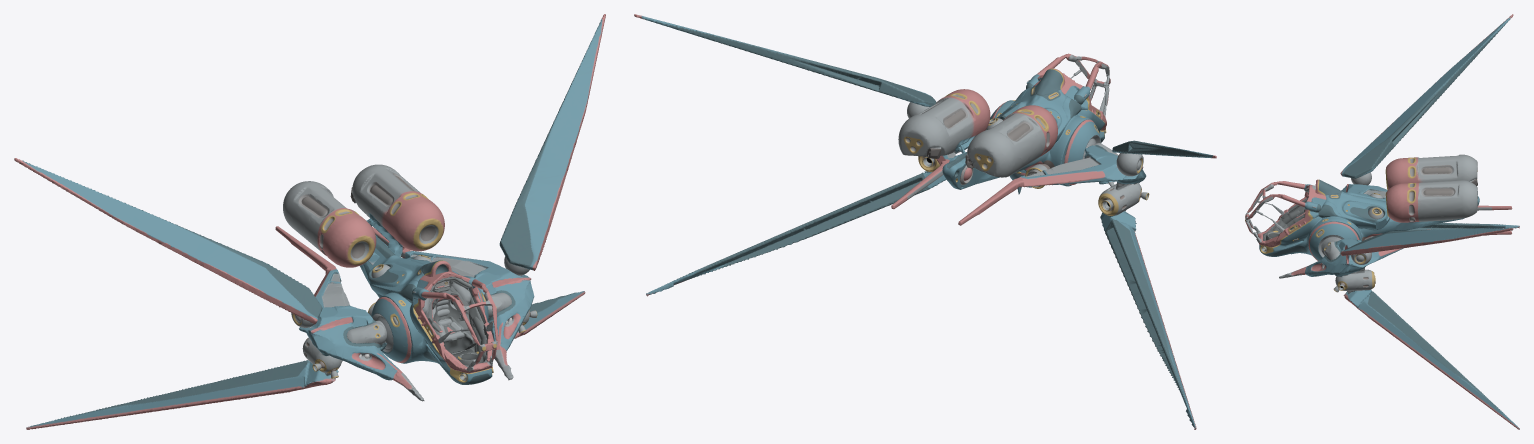
The model's file is haste_item_model_asset.glb.
3 renders of one model, left to right at view 1: azimuth 30°, elevation 25°; view 2: azimuth 150°, elevation 25°; view 3: azimuth 270°, elevation 25°, orthographic. The views are drawn at different scales.
Parts seen in each view (by area): view 1: Object_8, Object_9, Object_2, Object_4, Object_5, Object_3, Object_6; view 2: Object_8, Object_2, Object_9, Object_4, Object_5, Object_6, Object_7; view 3: Object_8, Object_9, Object_2, Object_4, Object_5, Object_6, Object_3.
Boxes of the visible parts, x1,y1,x2,y2 form: Object_8: (14, 14, 605, 429); Object_9: (16, 15, 605, 428); Object_2: (283, 164, 444, 267); Object_4: (360, 235, 493, 384); Object_5: (412, 271, 498, 373); Object_3: (422, 277, 486, 365); Object_6: (371, 287, 488, 362); Object_8: (634, 14, 1216, 429); Object_2: (898, 89, 1057, 177); Object_9: (635, 15, 1213, 423); Object_4: (942, 68, 1106, 189); Object_5: (1026, 53, 1110, 130); Object_6: (960, 102, 1101, 187); Object_7: (922, 118, 1149, 211); Object_8: (1284, 14, 1519, 429); Object_9: (1279, 16, 1517, 428); Object_2: (1385, 154, 1477, 222); Object_4: (1259, 179, 1479, 256); Object_5: (1245, 181, 1326, 247); Object_6: (1308, 221, 1359, 260); Object_3: (1265, 189, 1308, 240).
Size of the model in its own units: 6.57 by 2.97 by 3.55.
